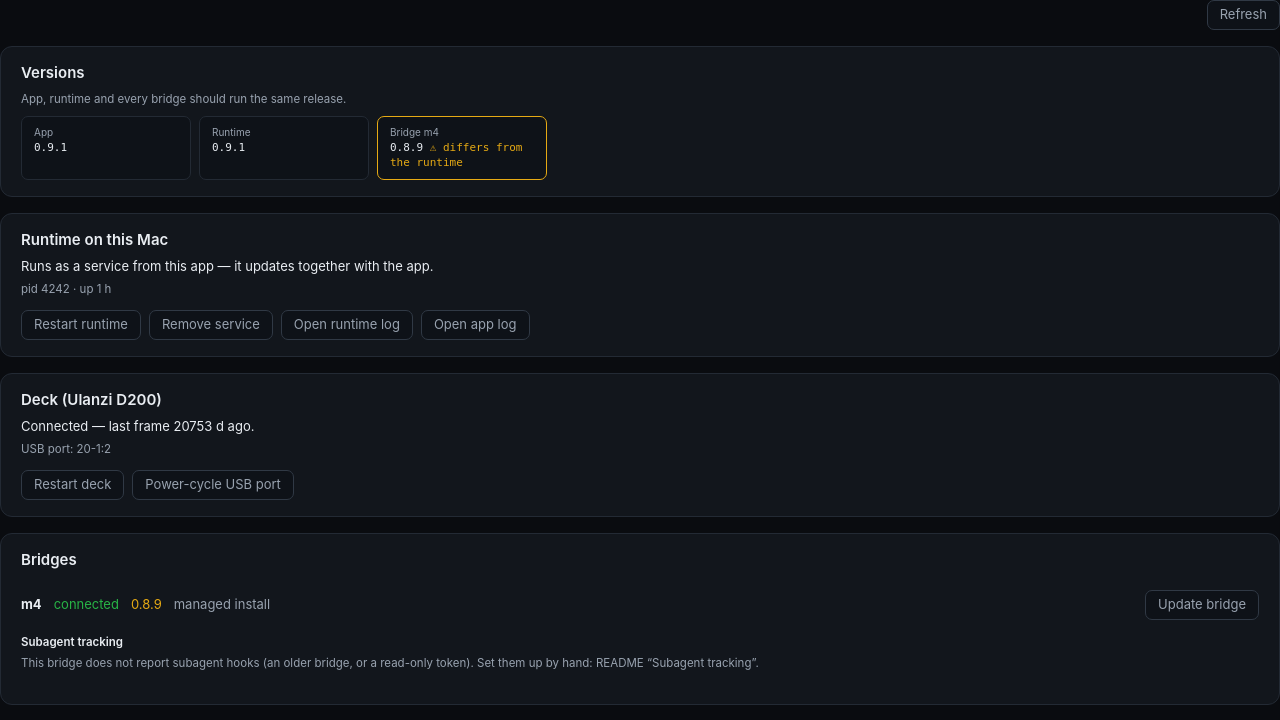
Test: MaintenanceSection › follows a bridge update's progress to its outcome
Click the button "Update bridge".
click(1202, 604)  # box x1=1145 y1=590 x2=1259 y2=620
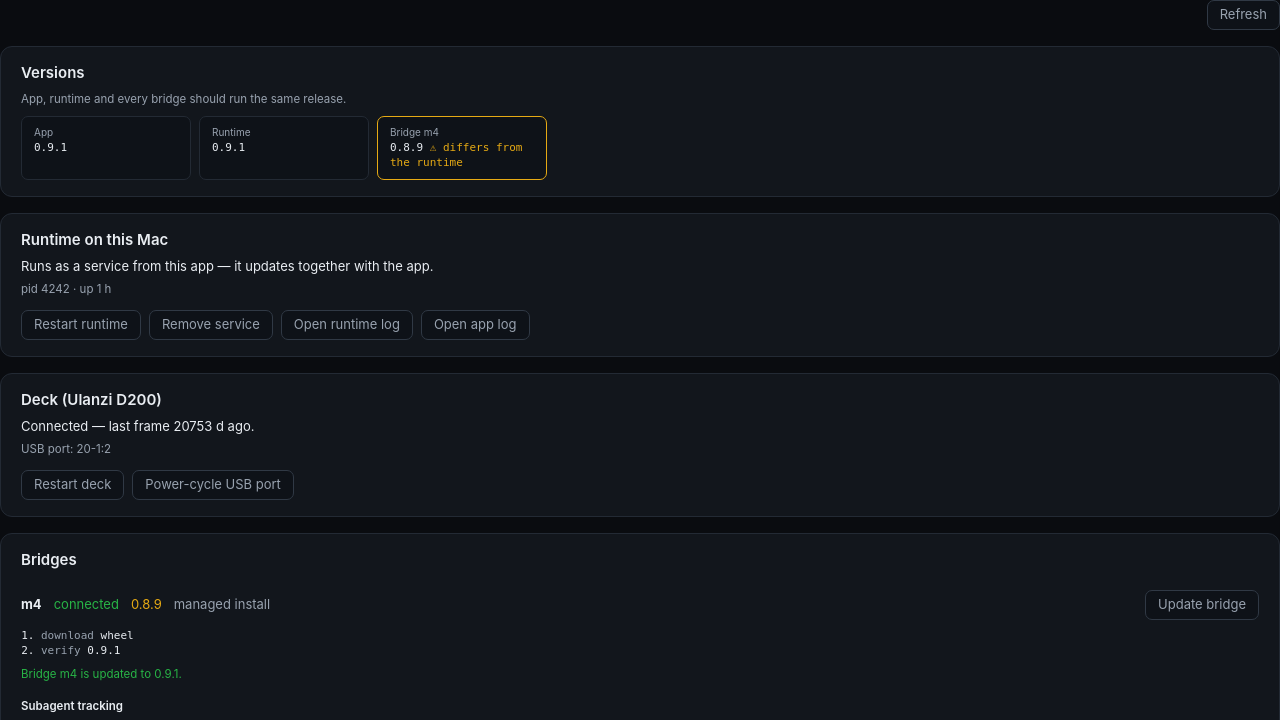
Result: the text "Bridge m4 is updated to 0.9.1." is shown at x1=21 y1=667 x2=182 y2=681
